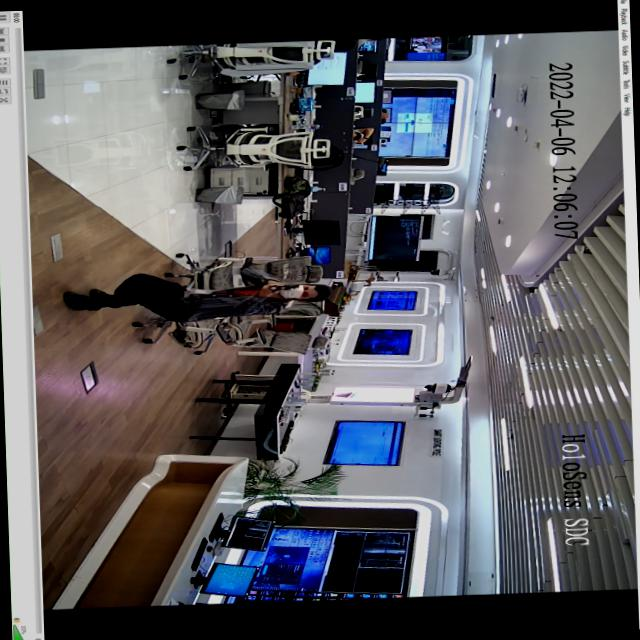long weapon: (260, 282, 303, 293)
